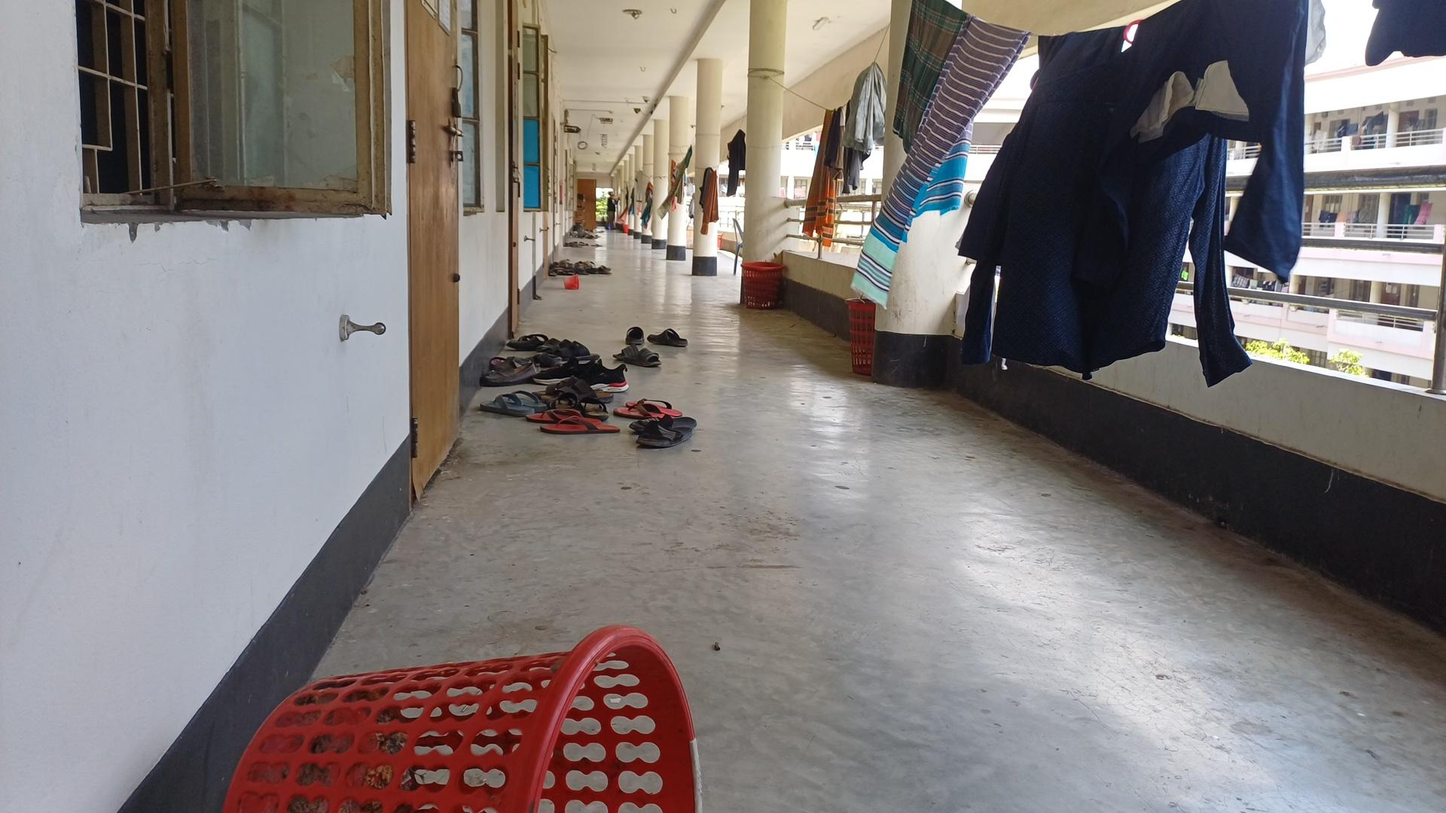Basket: (199, 635, 702, 813), (739, 252, 794, 310), (844, 301, 883, 369)
Door: (391, 2, 485, 464), (571, 158, 606, 239)
Footwear: (532, 394, 606, 443), (639, 406, 697, 444), (626, 320, 689, 354), (555, 365, 629, 393)
Towel: (867, 3, 1004, 323)
